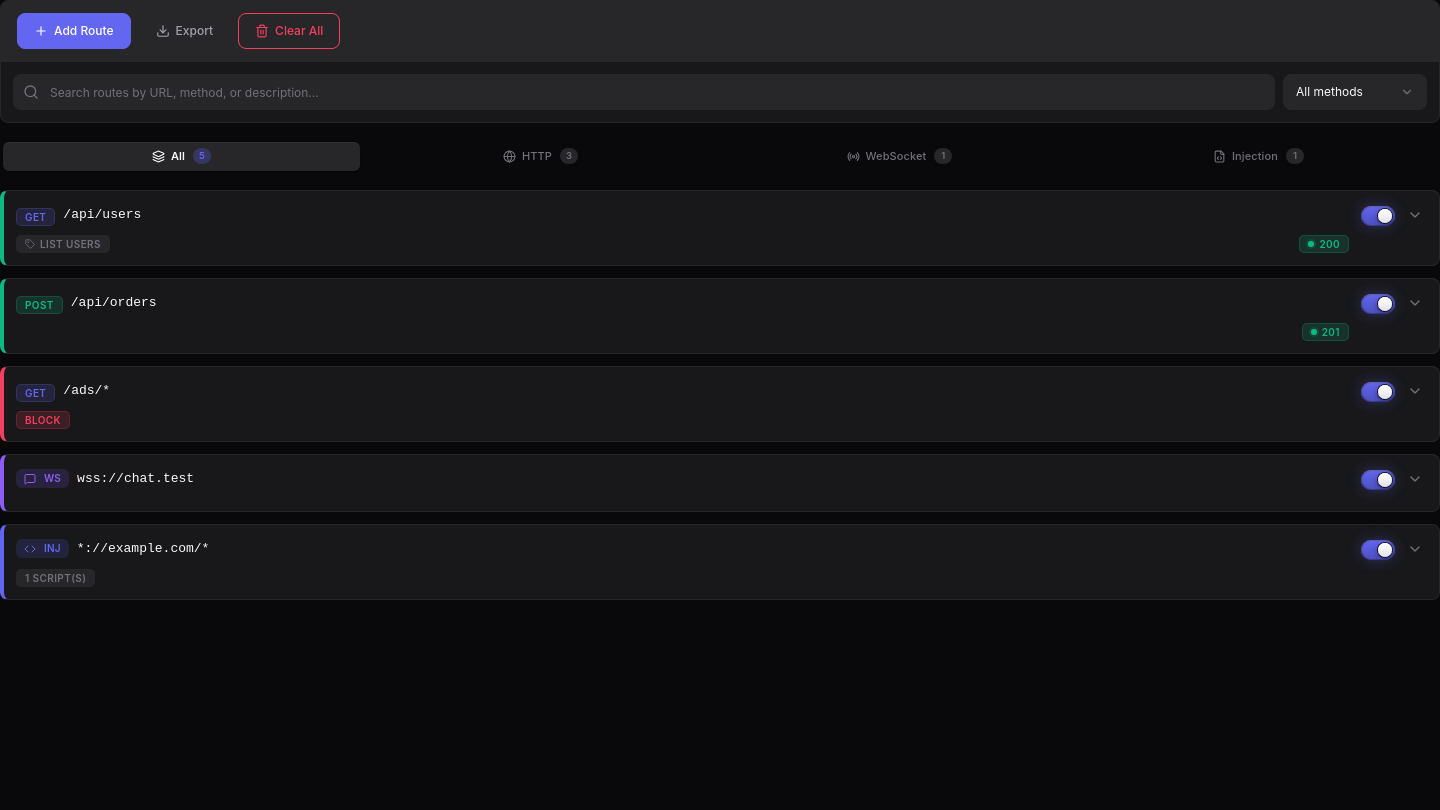
Test: RoutesTab deleting › asks for confirmation and does nothing when cancelled
Click the button "POST /api/orders 201" at (39, 304), box top-left (4, 278), bottom-right (1439, 352)
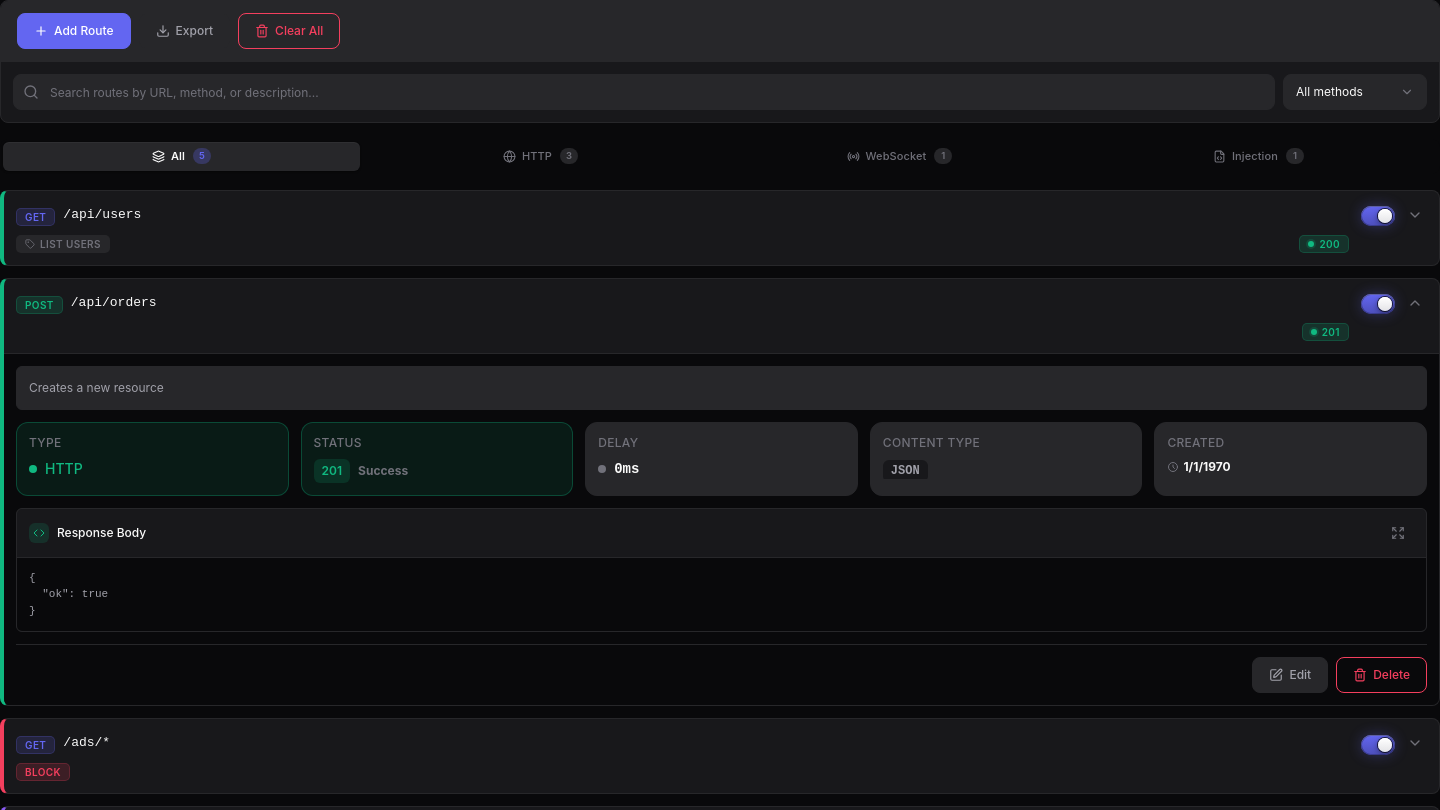
Click the button with aria-label "Delete route" at (1382, 675), box top-left (1336, 657), bottom-right (1427, 693)
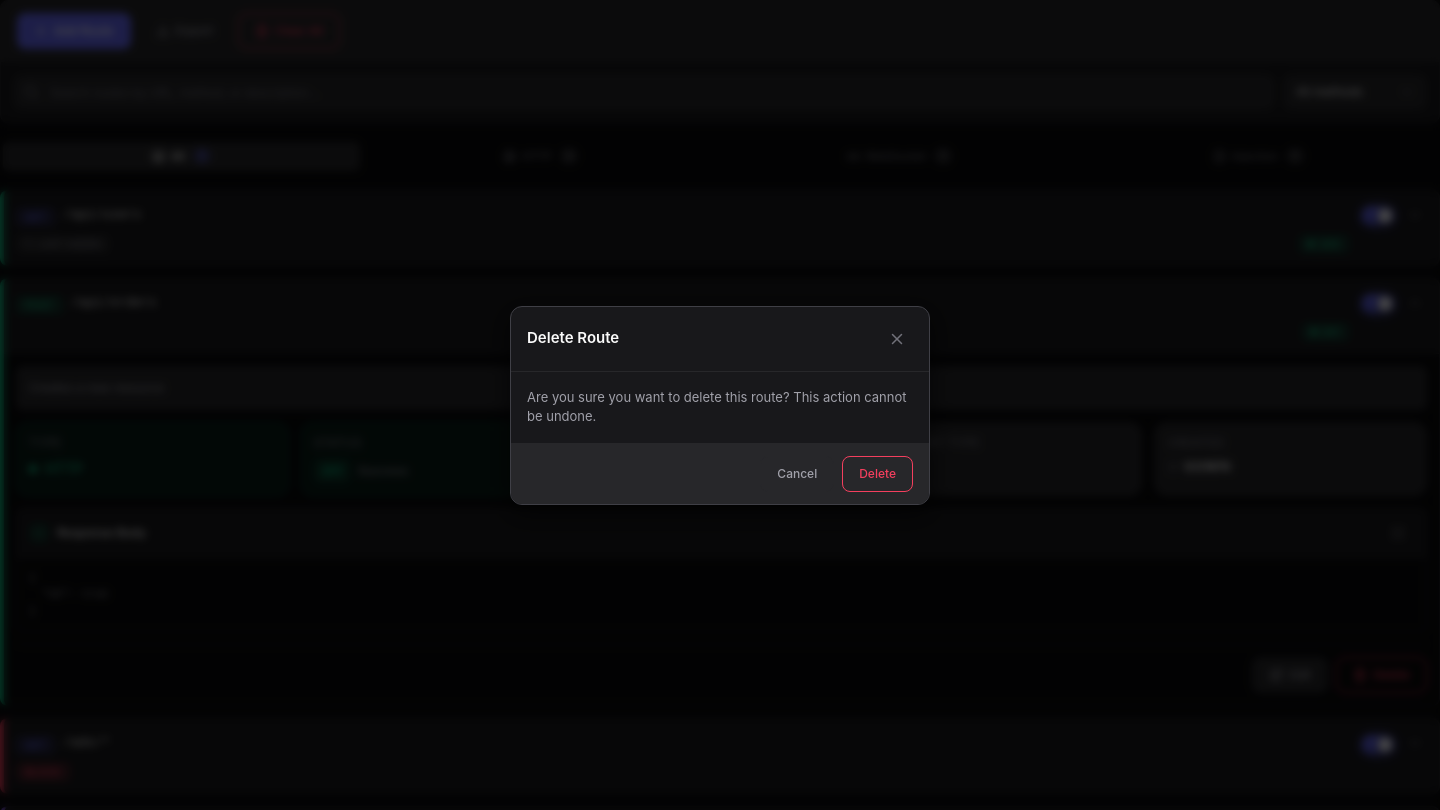
Expected: the heading "Delete Route" is shown, top-left (527, 327), bottom-right (619, 350)
Expected: the text "Are you sure you want to delete this route" is shown, top-left (527, 388), bottom-right (906, 424)
Click the button "Cancel" at (797, 474), box top-left (760, 456), bottom-right (834, 492)
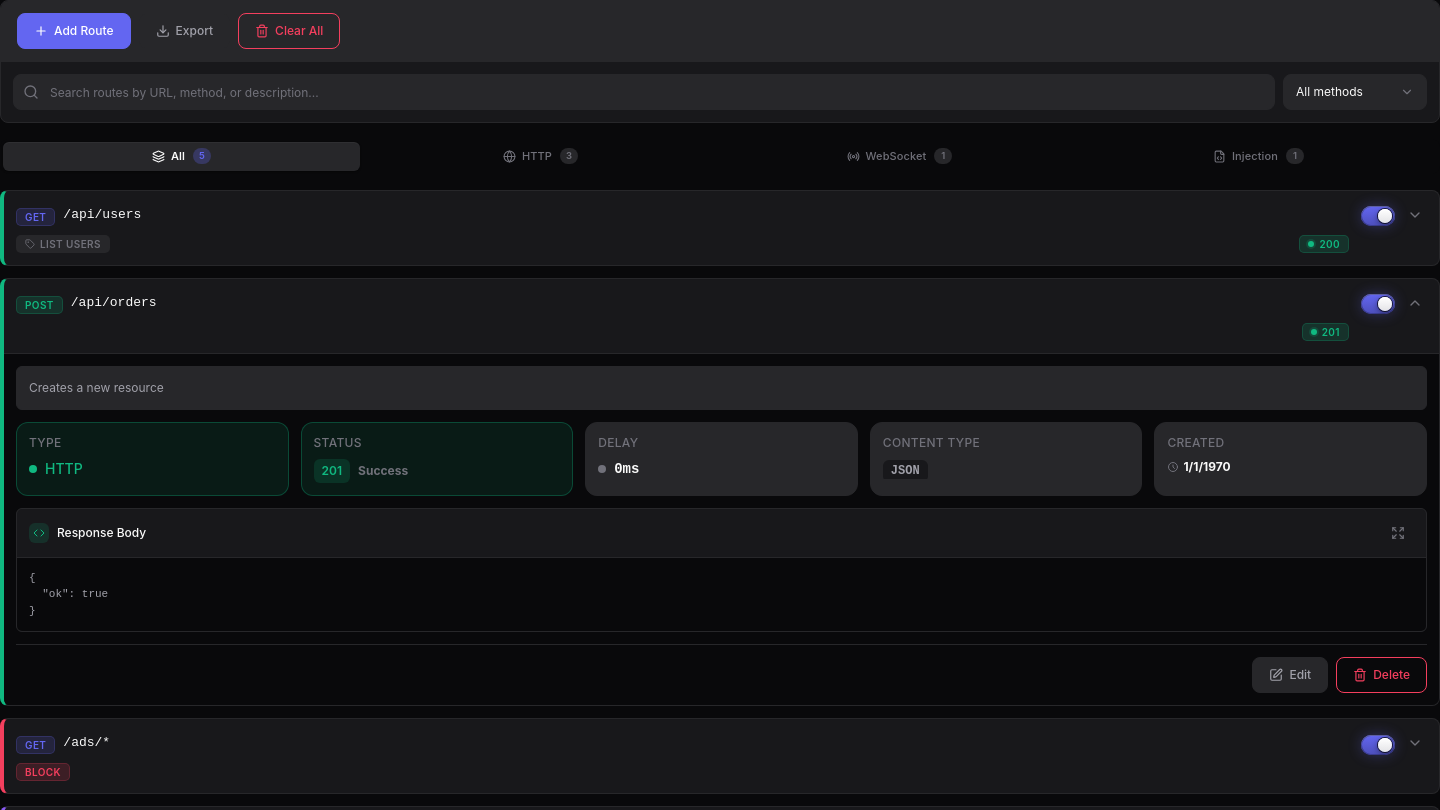
Expected: the heading "Delete Route" is gone
